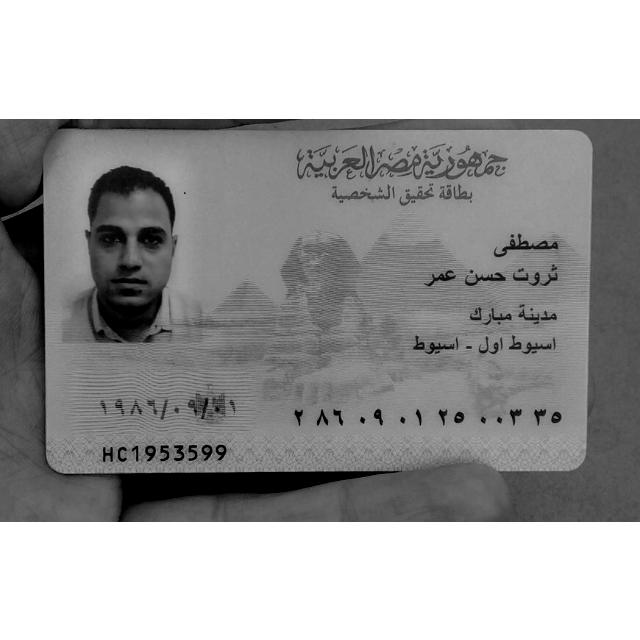front: (38, 126, 592, 474)
